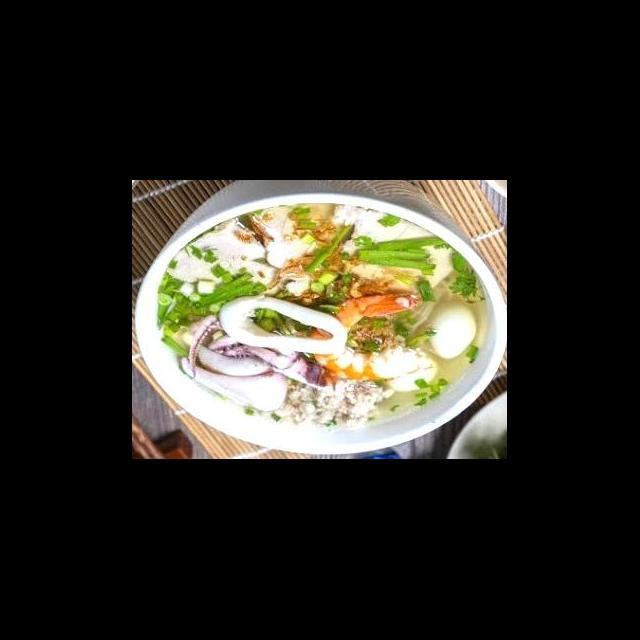muc: (184, 314, 330, 391), (214, 294, 350, 359), (176, 340, 292, 416)
thit bam: (262, 372, 398, 432)
thit heo: (328, 200, 458, 296), (247, 198, 361, 300), (164, 210, 284, 300)
tom: (306, 288, 438, 384)
trung: (426, 300, 482, 362), (382, 350, 442, 396)
